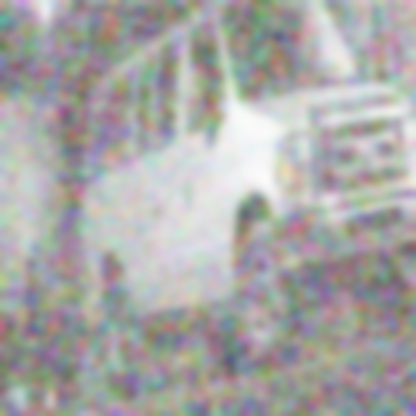Vehicle: (80, 1, 415, 413)
